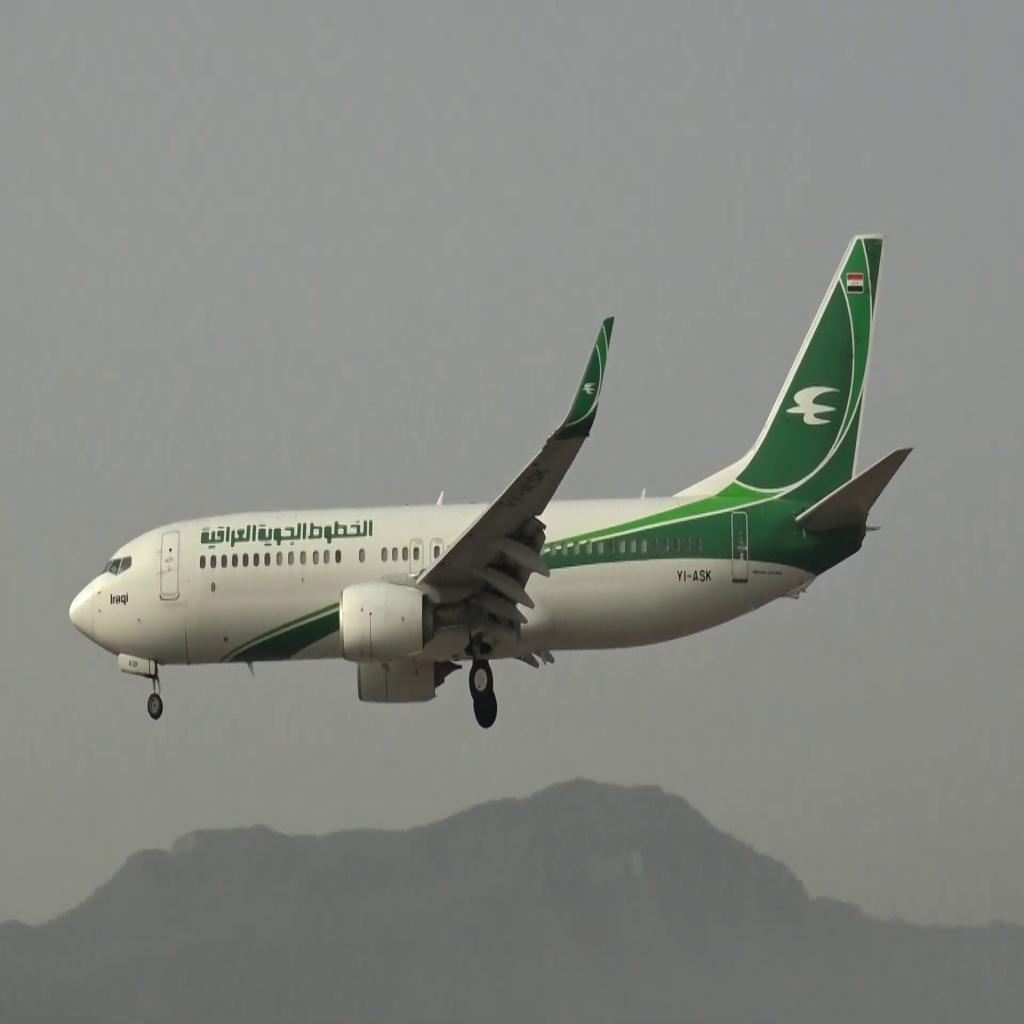airplane: (58, 227, 920, 734)
